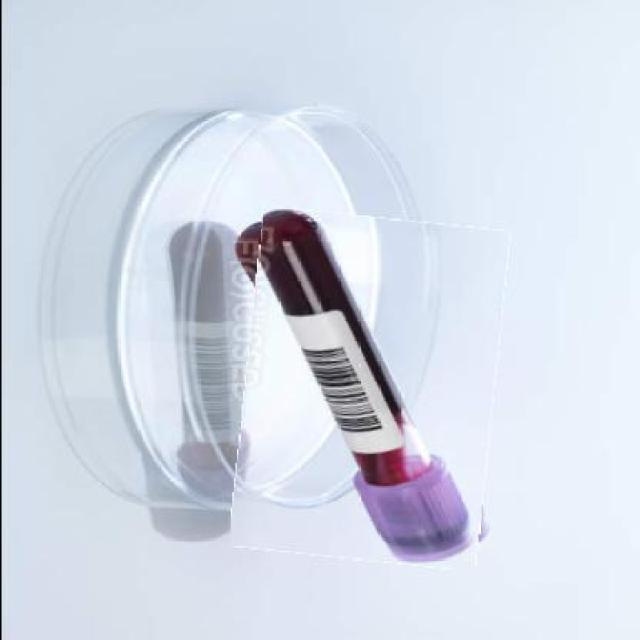Experimental-tube: (236, 212, 501, 566)
